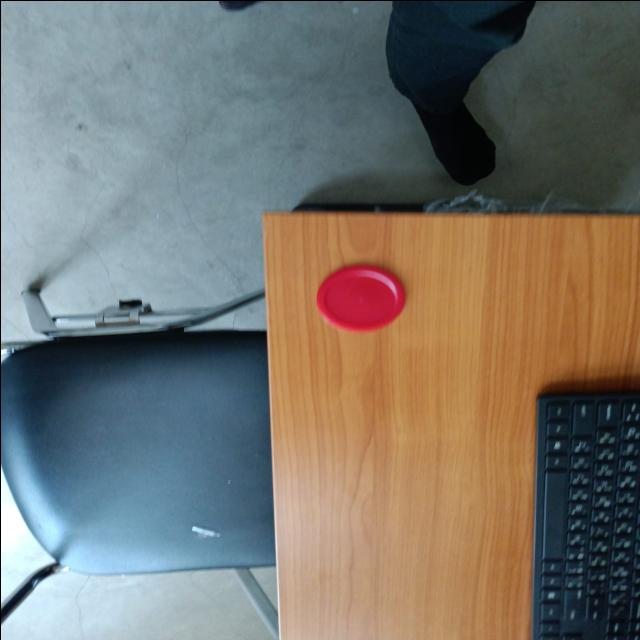chip: (313, 262, 409, 334)
